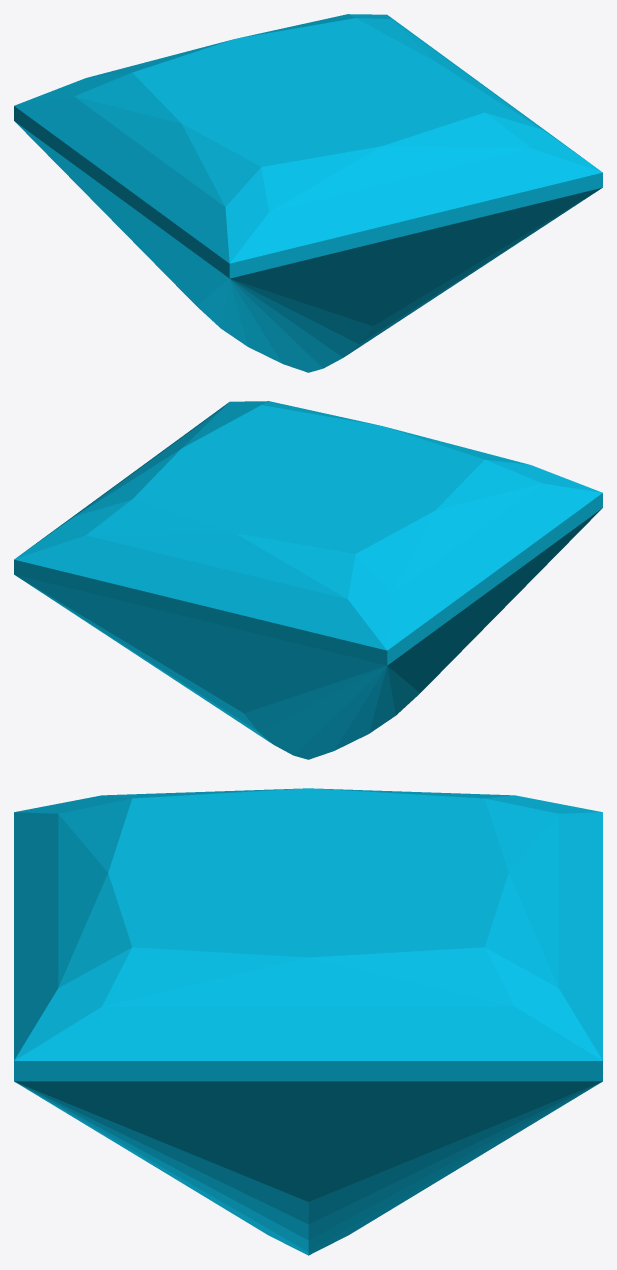
Rendered from Head_No Halo_Princess_1.5ct_Diamond.glb.
3 renders of one model, top to bottom at view 1: azimuth 30°, elevation 25°; view 2: azimuth 150°, elevation 25°; view 3: azimuth 270°, elevation 25°, orthographic. The views are drawn at different scales.
Bounding box in the file's own units: 0.00637 × 0.00457 × 0.00637.
